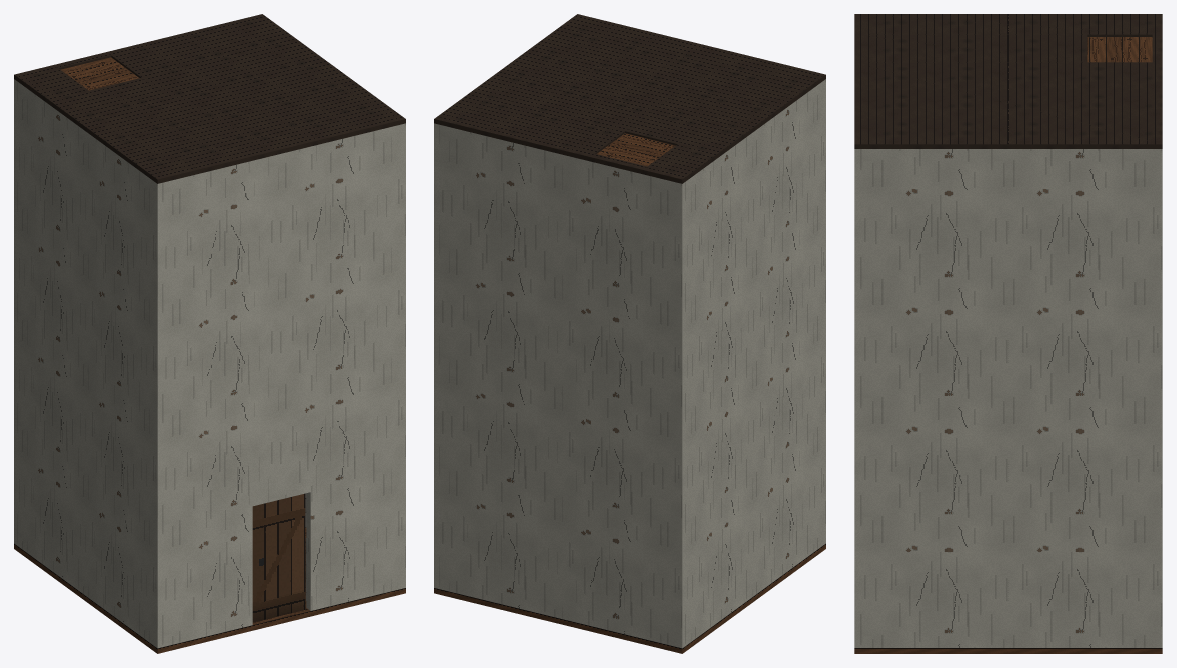
Rendered from torre.glb.
The picture shows the model from 3 angles, left to right: view 1: azimuth 30°, elevation 25°; view 2: azimuth 150°, elevation 25°; view 3: azimuth 270°, elevation 25°; orthographic projection. The views are drawn at different scales.
Parts seen in each view (by area): view 1: sala-col, teto-col, objetos; view 2: sala-col, teto-col, objetos; view 3: sala-col, teto-col, objetos.
Part boxes in pixels (box(x1,y1,x2,y2)): sala-col: box(14, 79, 405, 653); teto-col: box(14, 14, 405, 183); objetos: box(60, 57, 305, 581); sala-col: box(434, 79, 825, 653); teto-col: box(434, 14, 825, 183); objetos: box(597, 133, 675, 166); sala-col: box(854, 149, 1162, 653); teto-col: box(854, 14, 1162, 148); objetos: box(1087, 37, 1152, 62).
Size of the model in its own units: 4.7 by 8.58 by 4.7.
Materials: 8 (8 with a texture image).
